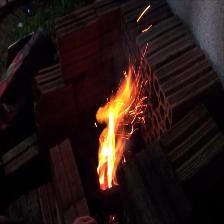fire: (85, 54, 164, 196)
